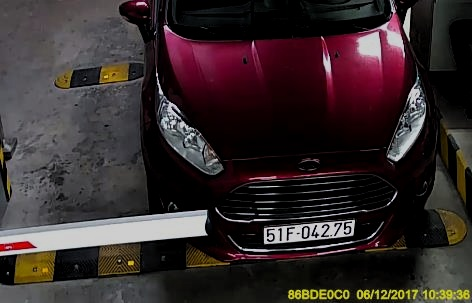plate: (260, 211, 363, 248)
